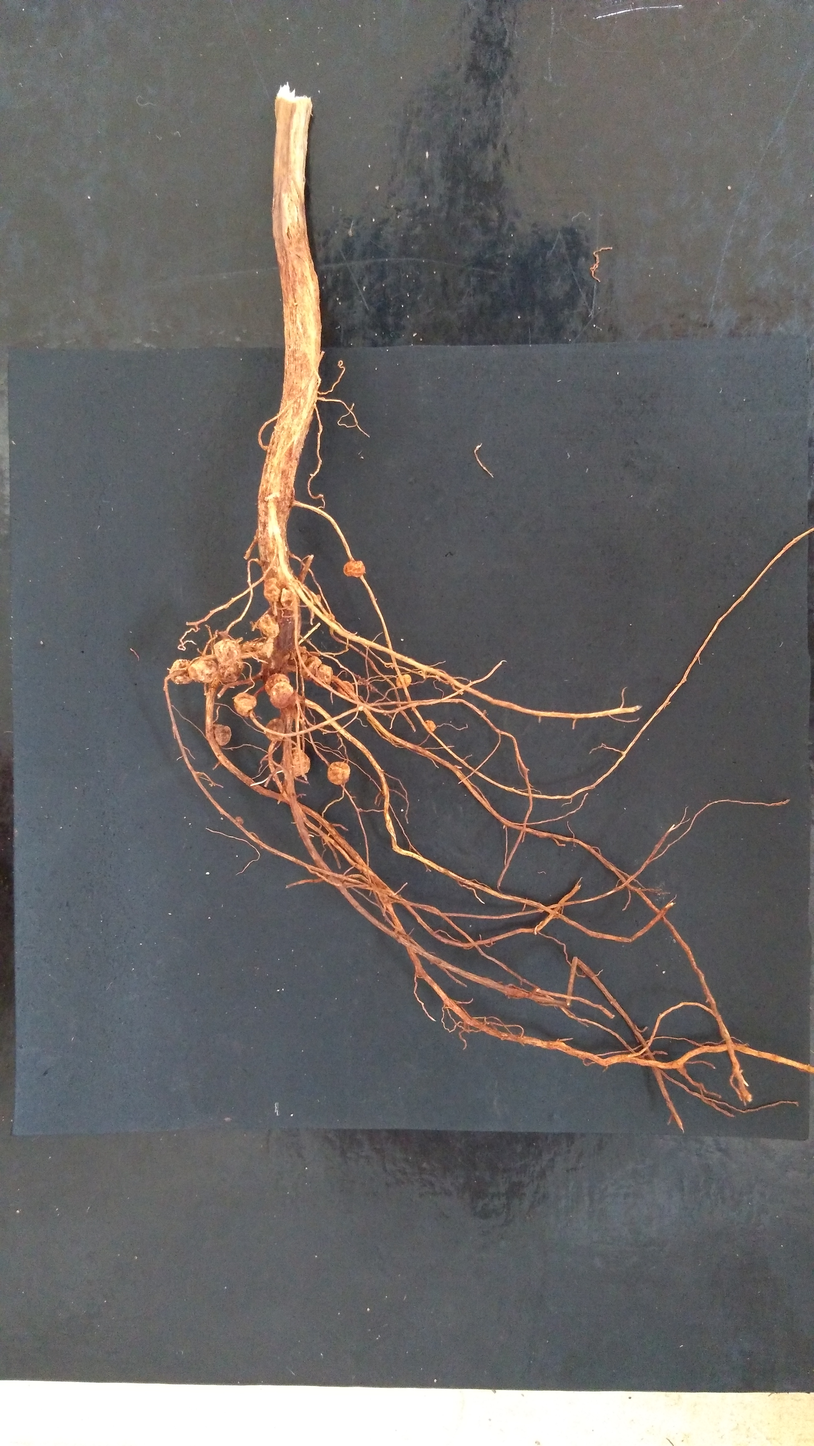nodule: (213, 638, 244, 682), (169, 657, 218, 684), (264, 673, 293, 708), (289, 748, 310, 777), (327, 760, 351, 785), (233, 692, 258, 716), (300, 655, 322, 681), (258, 613, 280, 638), (264, 717, 285, 742), (312, 664, 334, 687), (285, 646, 308, 667), (280, 587, 300, 609), (212, 723, 231, 746), (263, 578, 280, 603), (343, 560, 365, 578), (337, 679, 355, 699), (242, 639, 264, 651), (396, 673, 412, 688), (424, 720, 436, 732), (310, 594, 321, 604), (325, 612, 335, 622), (234, 816, 244, 825)
